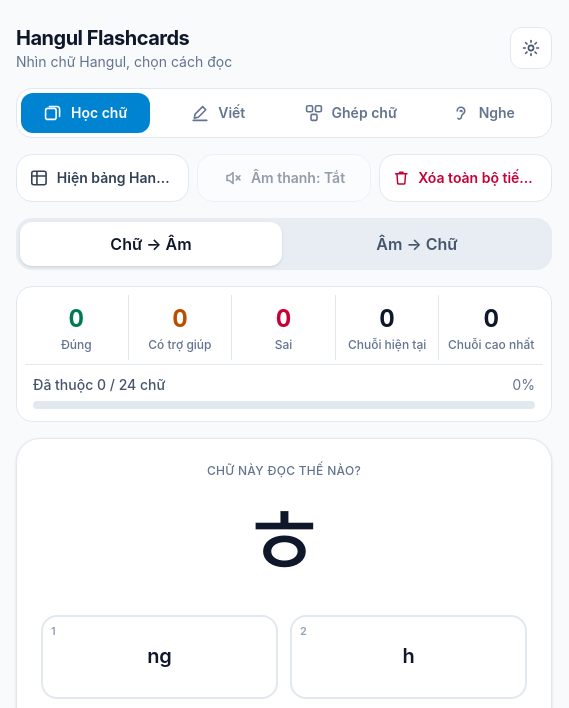
Scenario: analytics failures › never reaches the quiz when the transport throws
Click the button named "Đáp án".
click(408, 657)  # box x1=290 y1=615 x2=527 y2=699
(page scrolled)
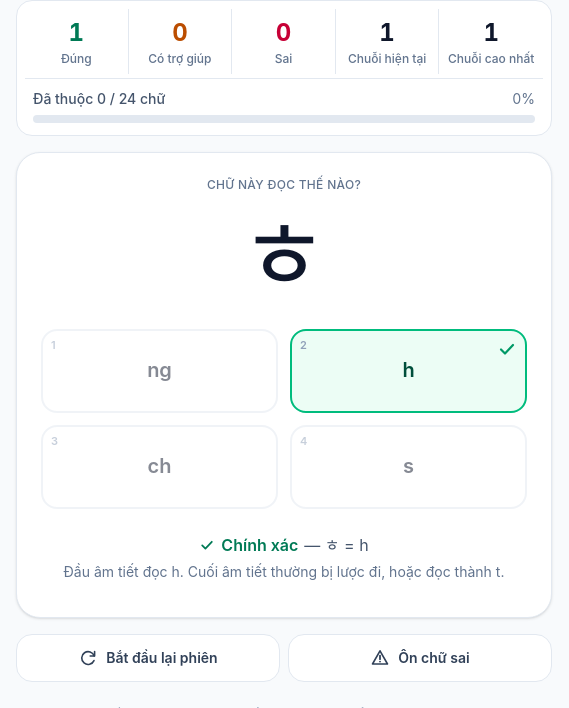
Check: the text "Chính xác" is shown, box x1=221 y1=533 x2=298 y2=557
